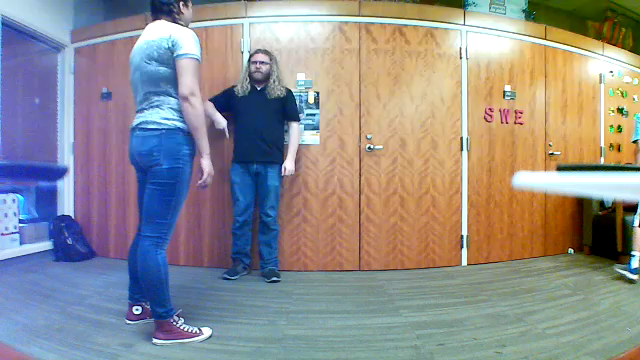down: (210, 110, 232, 143)
